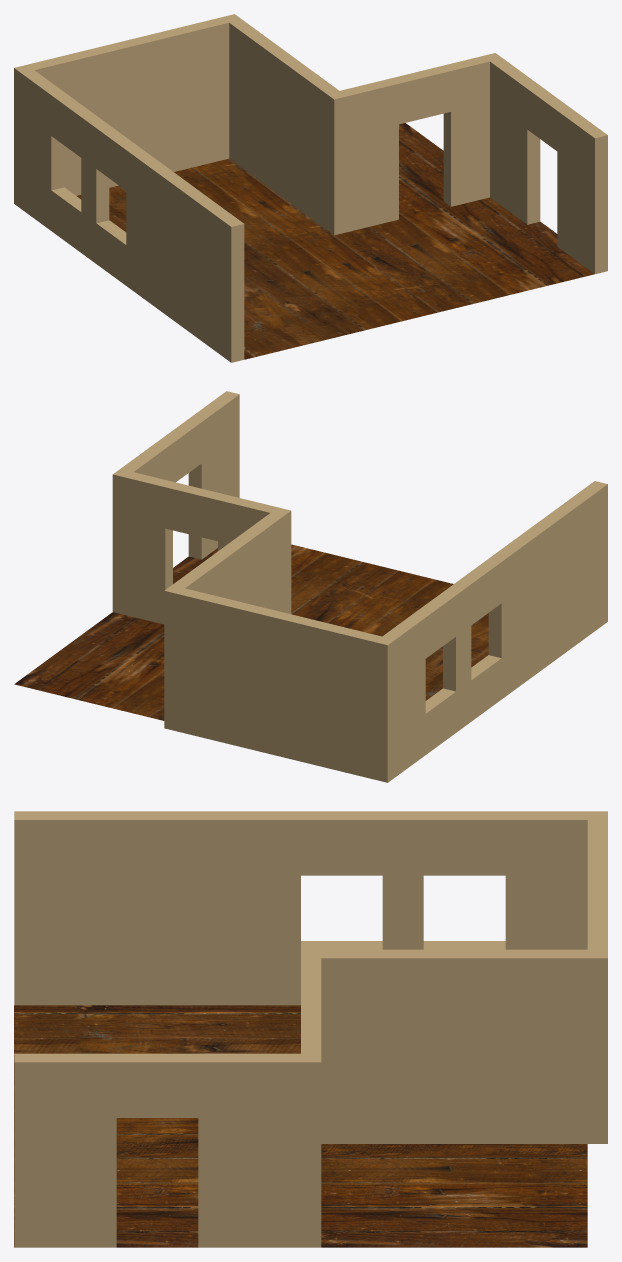
The model's file is level 1.glb.
3 renders of one model, top to bottom at view 1: azimuth 30°, elevation 25°; view 2: azimuth 150°, elevation 25°; view 3: azimuth 270°, elevation 25°, orthographic. The views are drawn at different scales.
Parts seen in each view (by area): view 1: Plane-col, Cube-col, Cube.003-col, Cube.001-col, Cube.002-col, Cube.004-col; view 2: Cube.003-col, Cube-col, Plane-col, Cube.002-col, Cube.004-col, Cube.001-col; view 3: Cube-col, Plane-col, Cube.001-col, Cube.004-col, Cube.003-col, Cube.002-col.
Boxes of the visible parts, left/top/right/bottom form: Plane-col: left=77, top=123, right=594, bottom=359; Cube-col: left=21, top=70, right=244, bottom=362; Cube.003-col: left=14, top=14, right=241, bottom=208; Cube.001-col: left=229, top=19, right=347, bottom=235; Cube.002-col: left=340, top=53, right=502, bottom=231; Cube.004-col: left=490, top=58, right=607, bottom=273; Cube.003-col: left=164, top=585, right=395, bottom=782; Cube-col: left=382, top=481, right=607, bottom=776; Plane-col: left=14, top=544, right=488, bottom=720; Cube.002-col: left=112, top=469, right=277, bottom=624; Cube.004-col: left=120, top=391, right=239, bottom=559; Cube.001-col: left=172, top=507, right=291, bottom=613; Cube-col: left=14, top=811, right=587, bottom=1005; Plane-col: left=14, top=1005, right=587, bottom=1247; Cube.001-col: left=301, top=949, right=587, bottom=1143; Cube.004-col: left=14, top=1053, right=300, bottom=1247; Cube.003-col: left=587, top=811, right=607, bottom=1143; Cube.002-col: left=301, top=958, right=321, bottom=1247.
Size of the model in its own units: 14.5 by 5 by 14.5.
2 materials, 1 textured.
